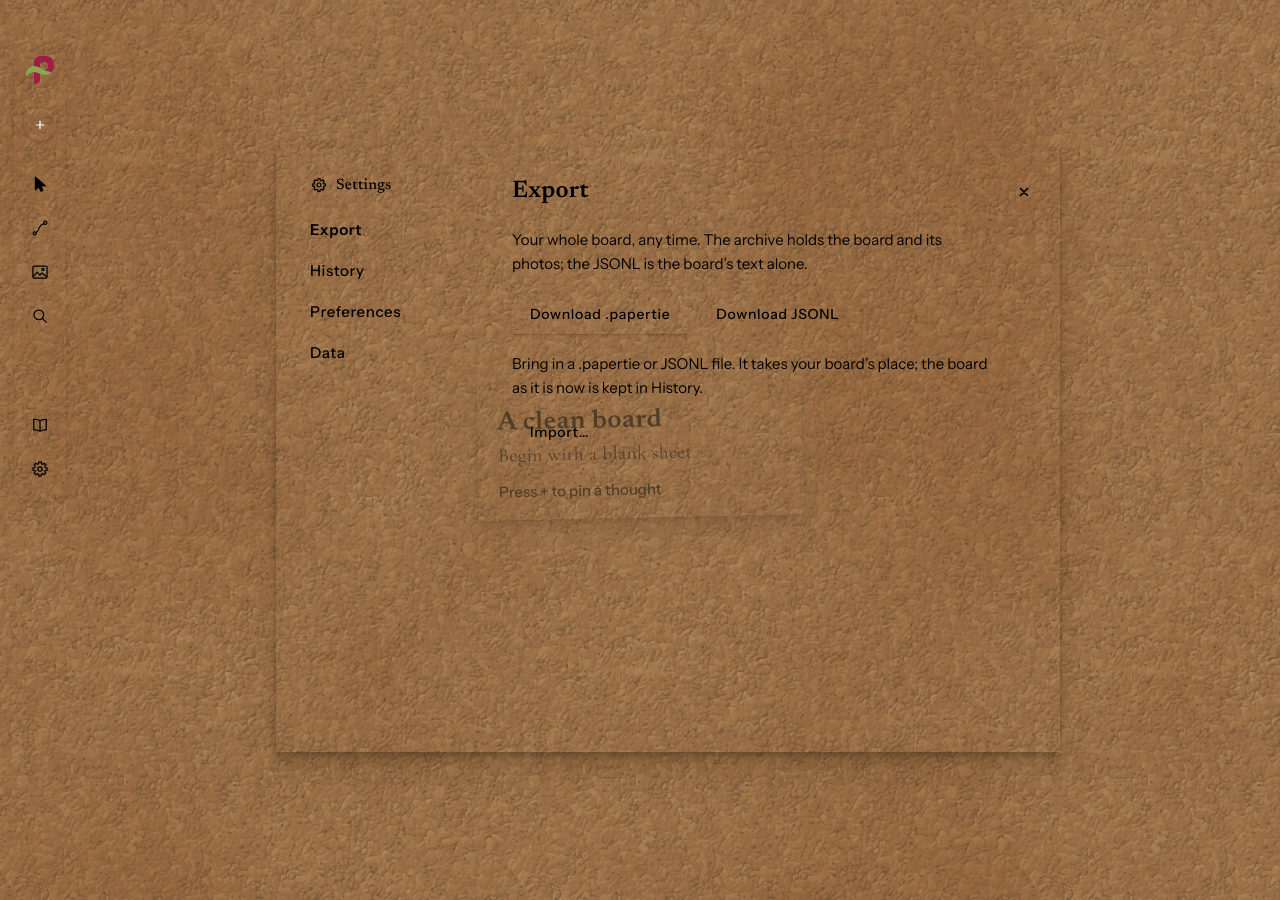
Test: the one user › Settings has Export, History, Preferences and Data, with Delete all data
Click the link "Data" at (328, 352), box [310,343,346,362]
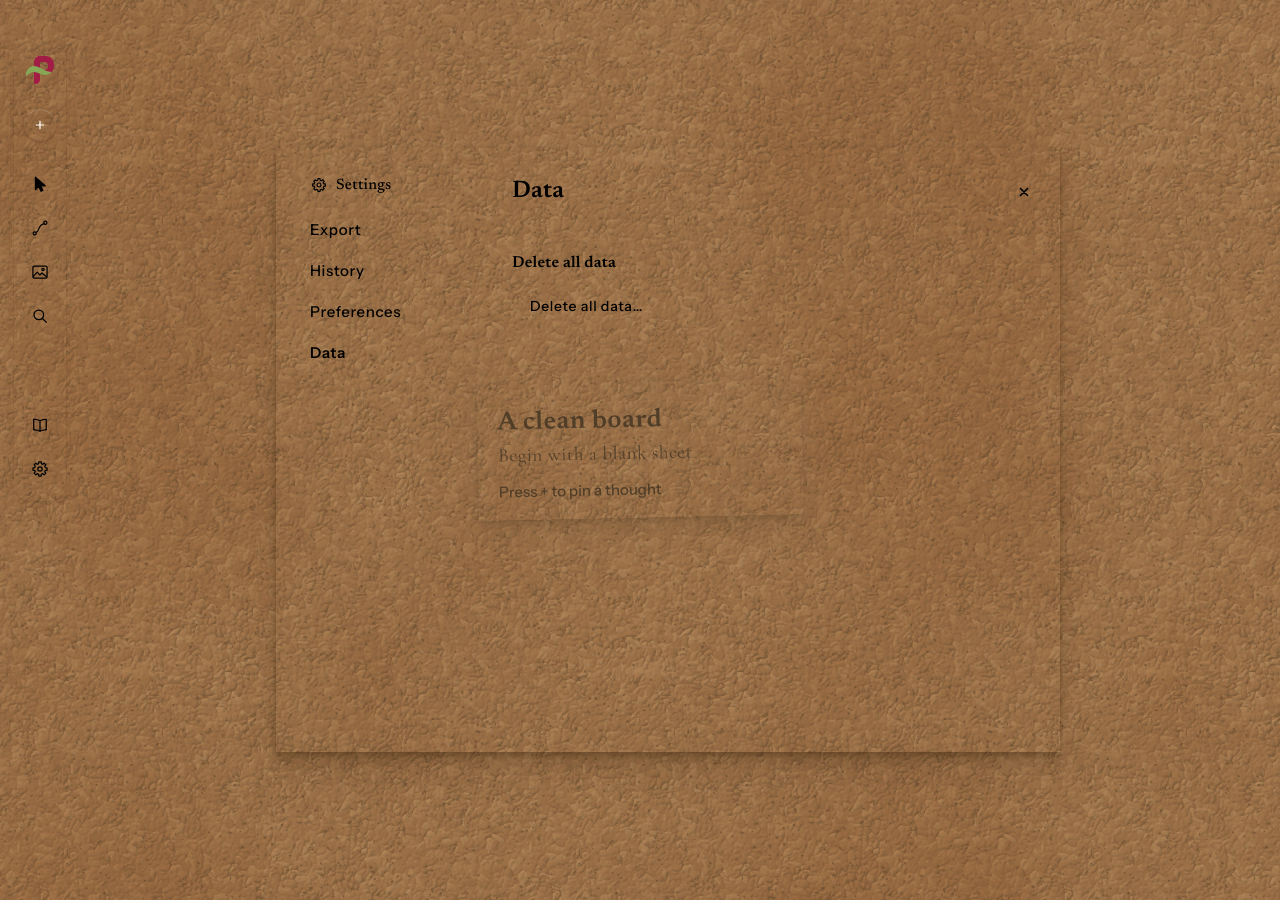
Result: the heading "Delete all data" is shown at [512,255,616,271]
